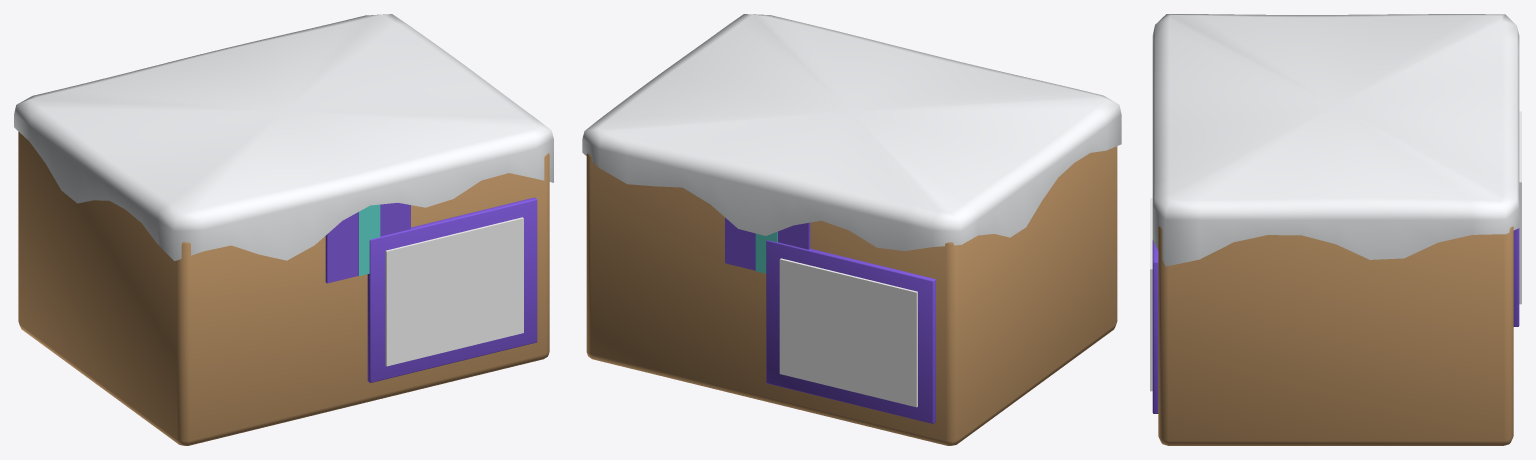
The model's file is DeliveryFrontier.fbx.
3 views of the same model, side by side, from view 1: azimuth 30°, elevation 25°; view 2: azimuth 150°, elevation 25°; view 3: azimuth 270°, elevation 25° (orthographic). The views are drawn at different scales.
Visible parts, largest first — view 1: BoxFrontier__Frame, BoxFrontier__Picture; view 2: BoxFrontier__Frame, BoxFrontier__PictureBack; view 3: BoxFrontier__Frame, BoxFrontier__Picture, BoxFrontier__PictureBack.
Part boxes in pixels (x1,y1,x2,y2): BoxFrontier__Frame: (14, 14, 553, 445); BoxFrontier__Picture: (385, 217, 523, 366); BoxFrontier__Frame: (582, 14, 1121, 445); BoxFrontier__PictureBack: (779, 258, 917, 407); BoxFrontier__Frame: (1152, 14, 1519, 445); BoxFrontier__Picture: (1150, 198, 1152, 391); BoxFrontier__PictureBack: (1519, 111, 1521, 304).
Bounding box in the file's own units: 2.5 × 1.47 × 1.99.
1 material, 1 textured.
